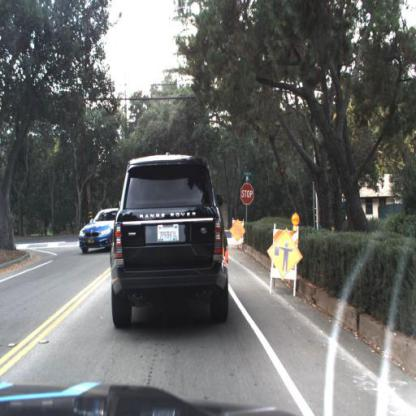car: (109, 150, 232, 332), (77, 207, 115, 258)
